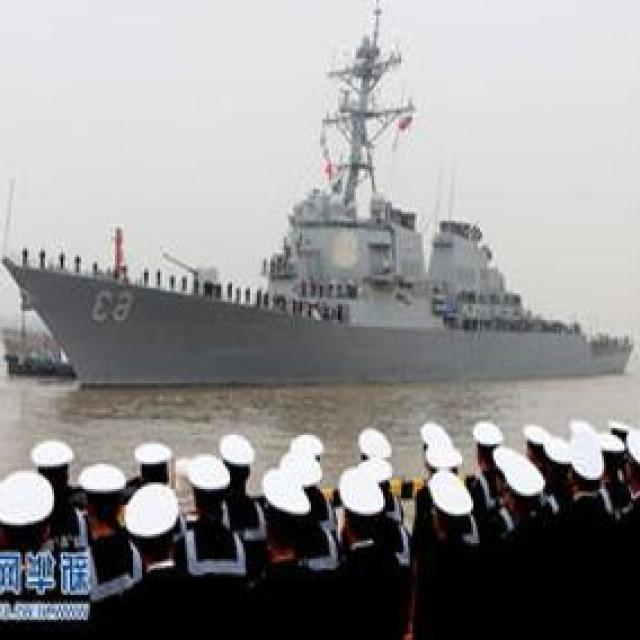navalvessels: (14, 8, 635, 420)
